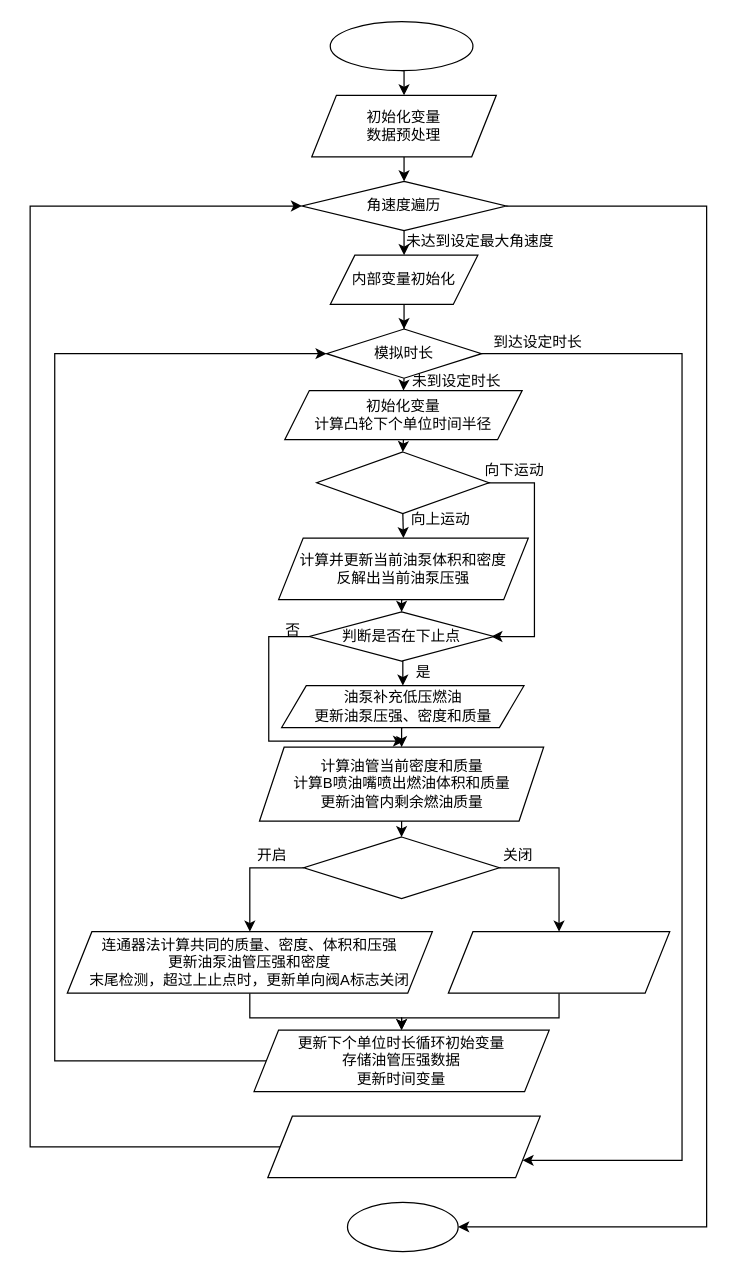
The diagram is 738 pixels wide and 1273 high, and some of its shapes have lost their labels. Each missing label, with the centre of its shape:
"上个单位时间 单向阀A是否开启" goes at point 401,867.
"判断柱塞运动方向" goes at point 402,482.
"开始" goes at point 401,45.
"检测油泵压强是否高于油管 更新单向阀A标志" goes at point 558,961.
"结束" goes at point 402,1226.
"重置时间变量 计算本次平均油管压强并且存储 重置变量" goes at point 403,1146.
